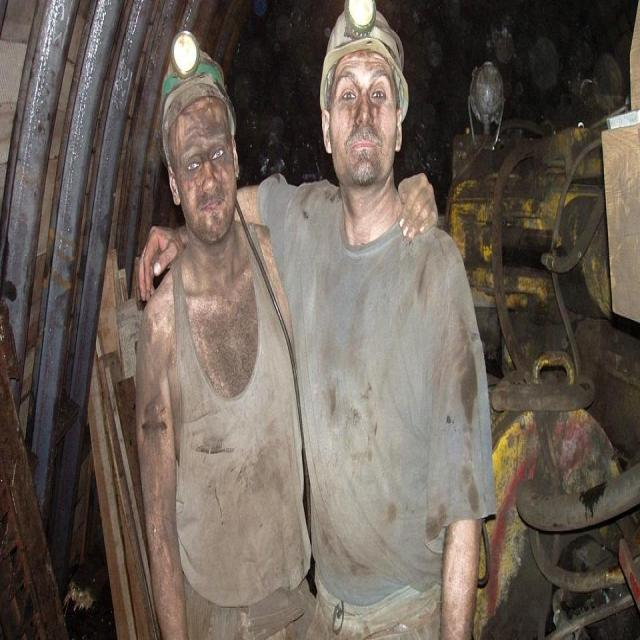person: (270, 1, 504, 636), (95, 10, 309, 633)
safety_helmet: (314, 3, 418, 86), (138, 22, 230, 93)
